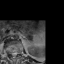CCS_normal: (13, 50, 15, 60)
LFS_normal: (17, 50, 20, 56)
LLS_normal: (15, 50, 17, 57)
RFS_normal: (8, 50, 11, 56)
RLS_normal: (11, 50, 13, 57)
